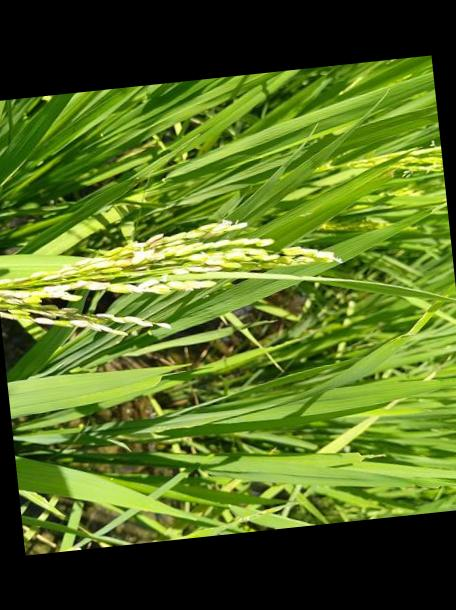Panicle Blight: (93, 223, 228, 268), (29, 307, 145, 329)
